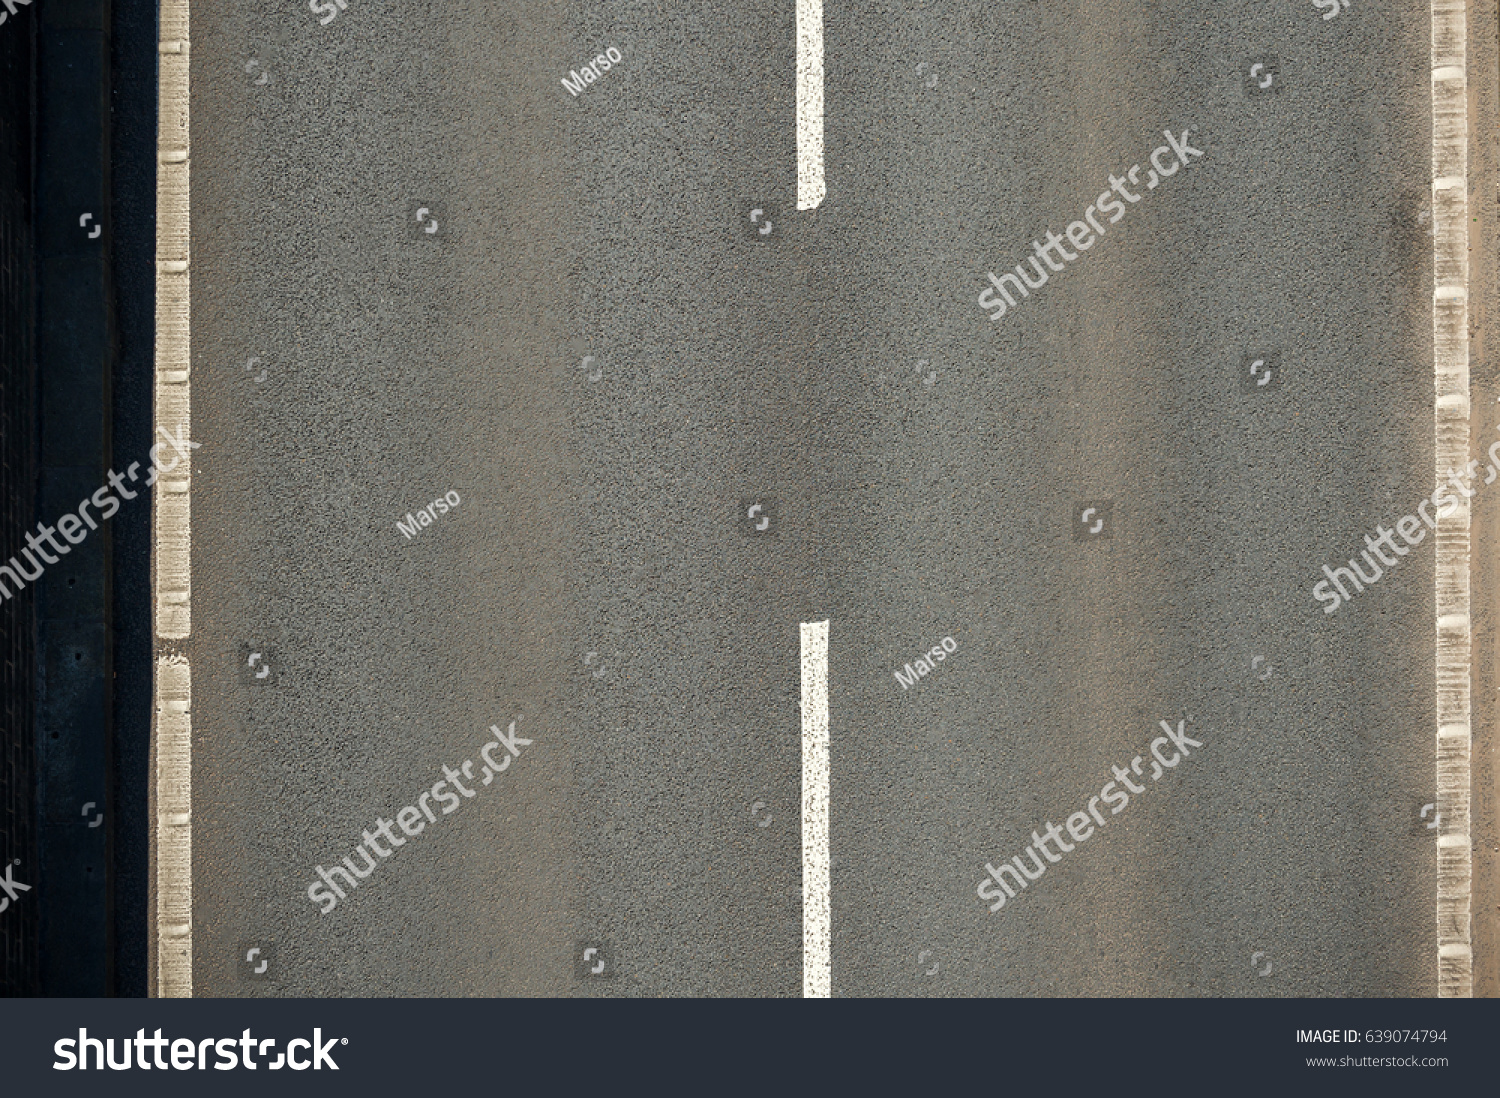LaneMark: (154, 1, 193, 996), (1436, 1, 1467, 994), (797, 618, 834, 1000), (785, 3, 829, 218)
